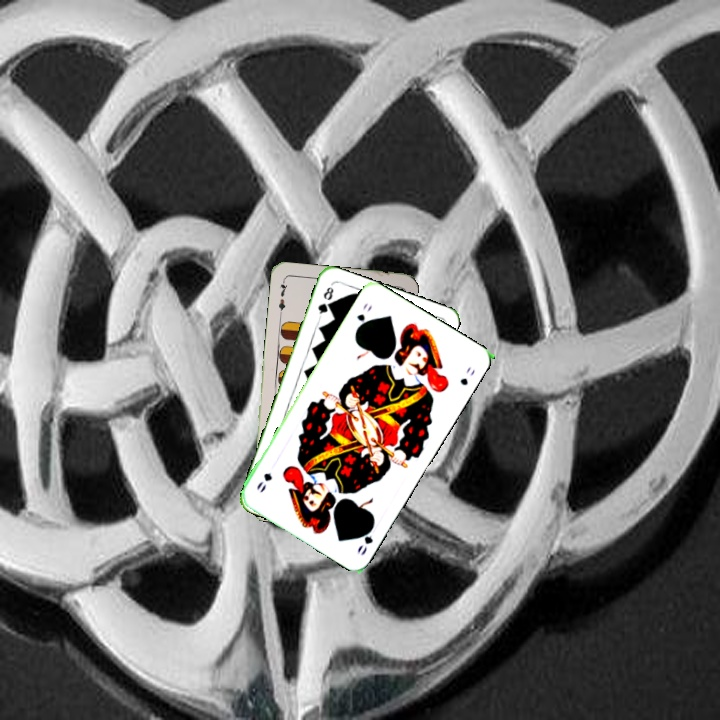E7: (275, 276, 290, 317)
G8: (314, 283, 336, 320)
GO: (353, 519, 377, 558), (352, 299, 374, 334)
